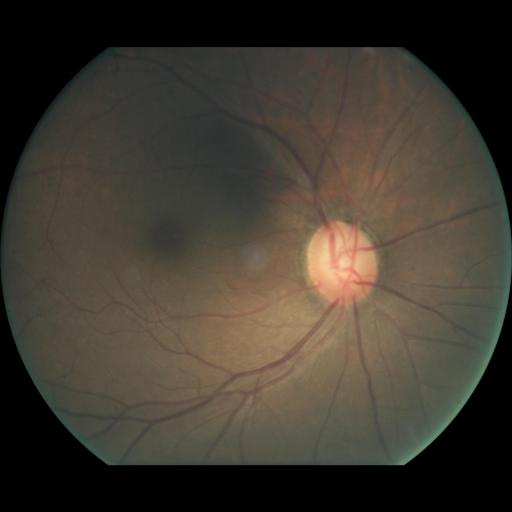Optic Cup: (322, 235, 360, 280)
Optic Disc: (305, 220, 378, 306)
